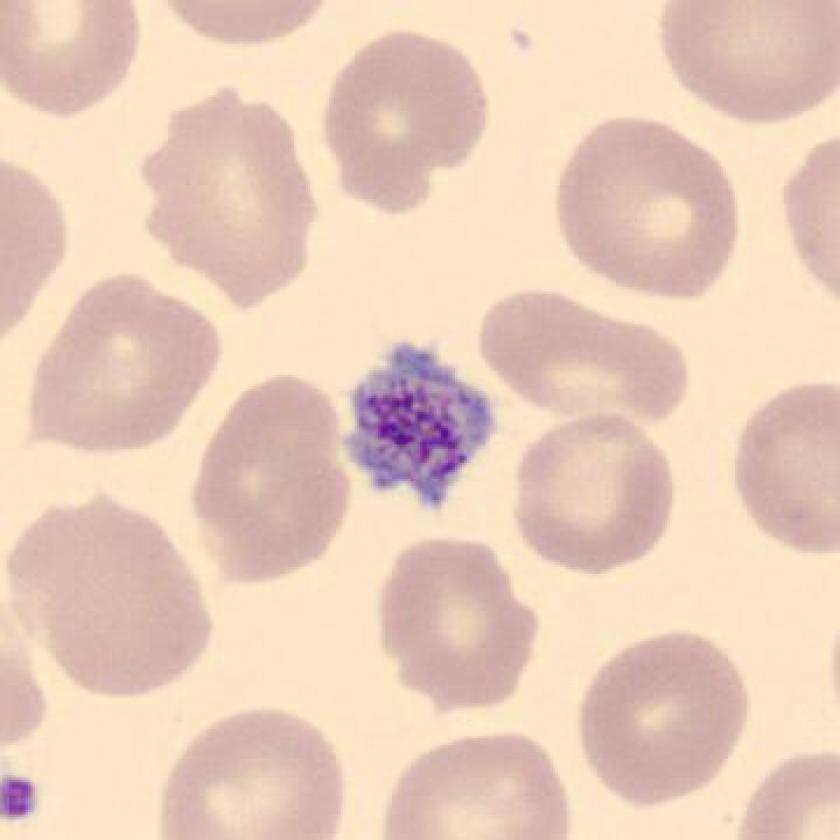platelets: (342, 332, 512, 526), (1, 764, 45, 824)
